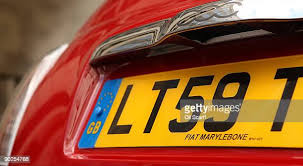number_plate: (88, 63, 303, 152)
